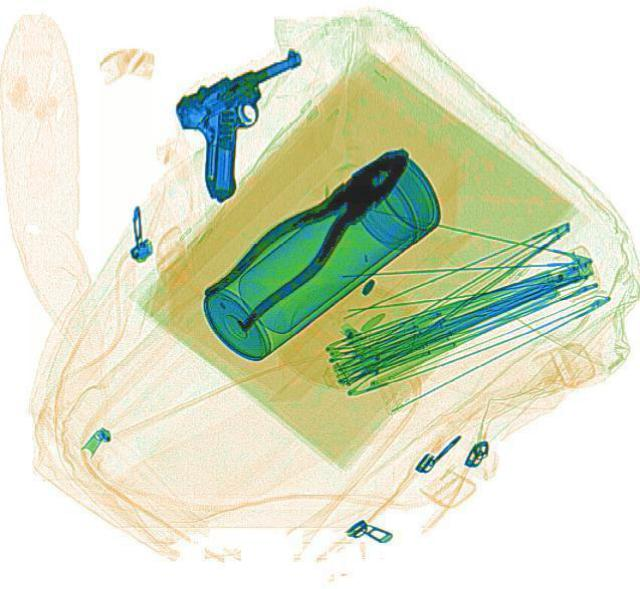Gun: (154, 46, 350, 201)
Pliers: (192, 130, 430, 335)
